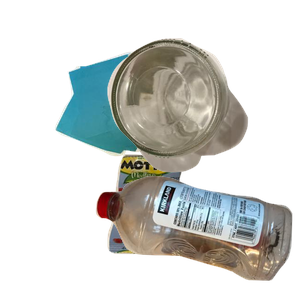glass: (105, 36, 300, 201)
paper: (52, 49, 209, 198)
plastic: (93, 173, 300, 300)
trash: (105, 152, 280, 300)
